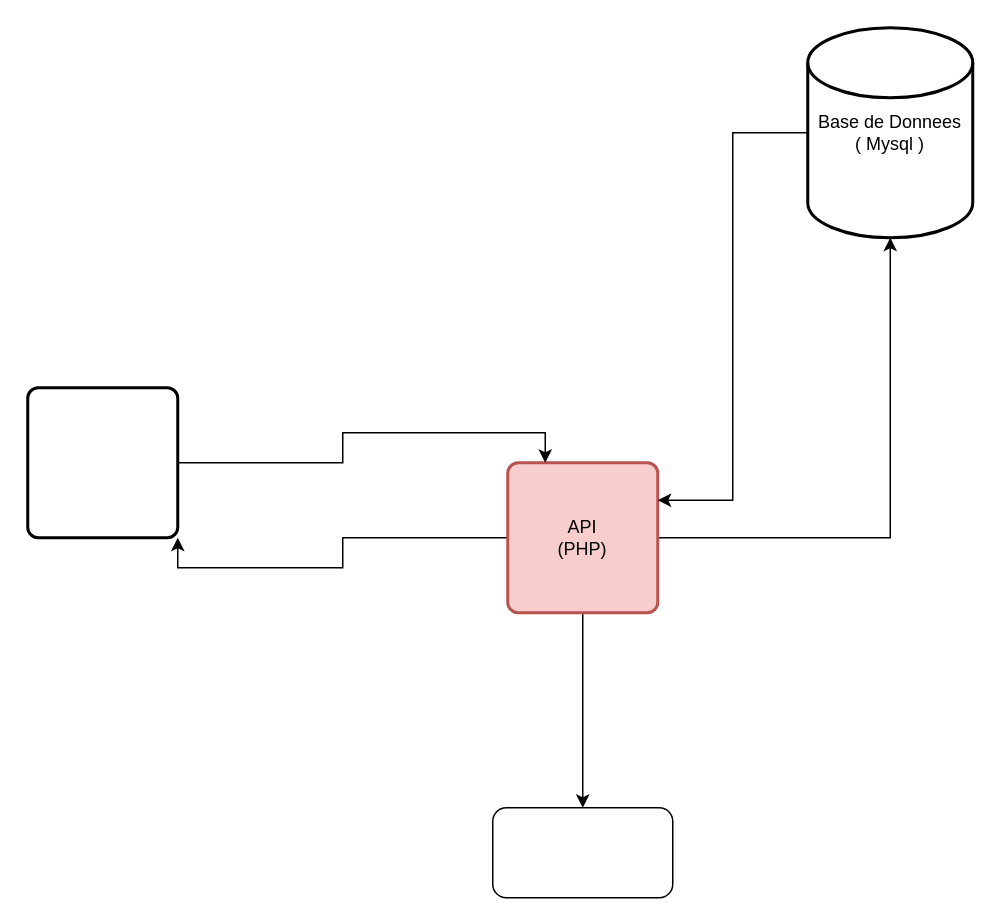
The diagram is 999 pixels wide and 924 high, and some of its shapes have lost their labels. Here are the shapes that lost their labels. From the top down, the box of each, then its label:
(26, 386, 178, 538): Front-End (Angular)
(491, 806, 673, 898): flux rss lemonde.fr (XML )
